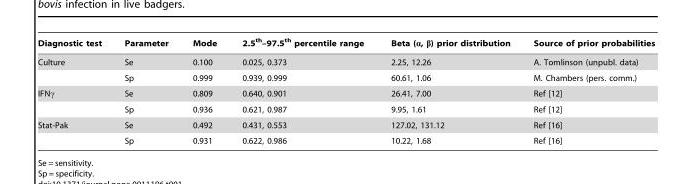table: (37, 36, 654, 144)
table column: (228, 36, 376, 144), (376, 36, 521, 144), (521, 36, 654, 144), (37, 36, 112, 144), (112, 36, 179, 144), (179, 36, 228, 144)
table column header: (37, 36, 654, 52)
table row: (37, 52, 654, 69), (37, 36, 654, 52), (37, 69, 654, 85), (37, 85, 654, 101), (37, 101, 654, 117), (37, 117, 654, 132), (37, 132, 654, 144)
table spanning cell: (37, 52, 112, 85), (37, 85, 112, 117), (37, 117, 112, 144)
